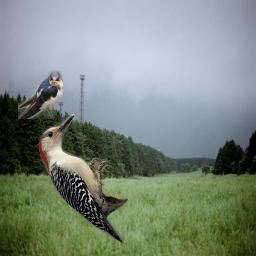Swallow: (18, 70, 63, 119)
Woodpecker: (38, 113, 128, 243)
